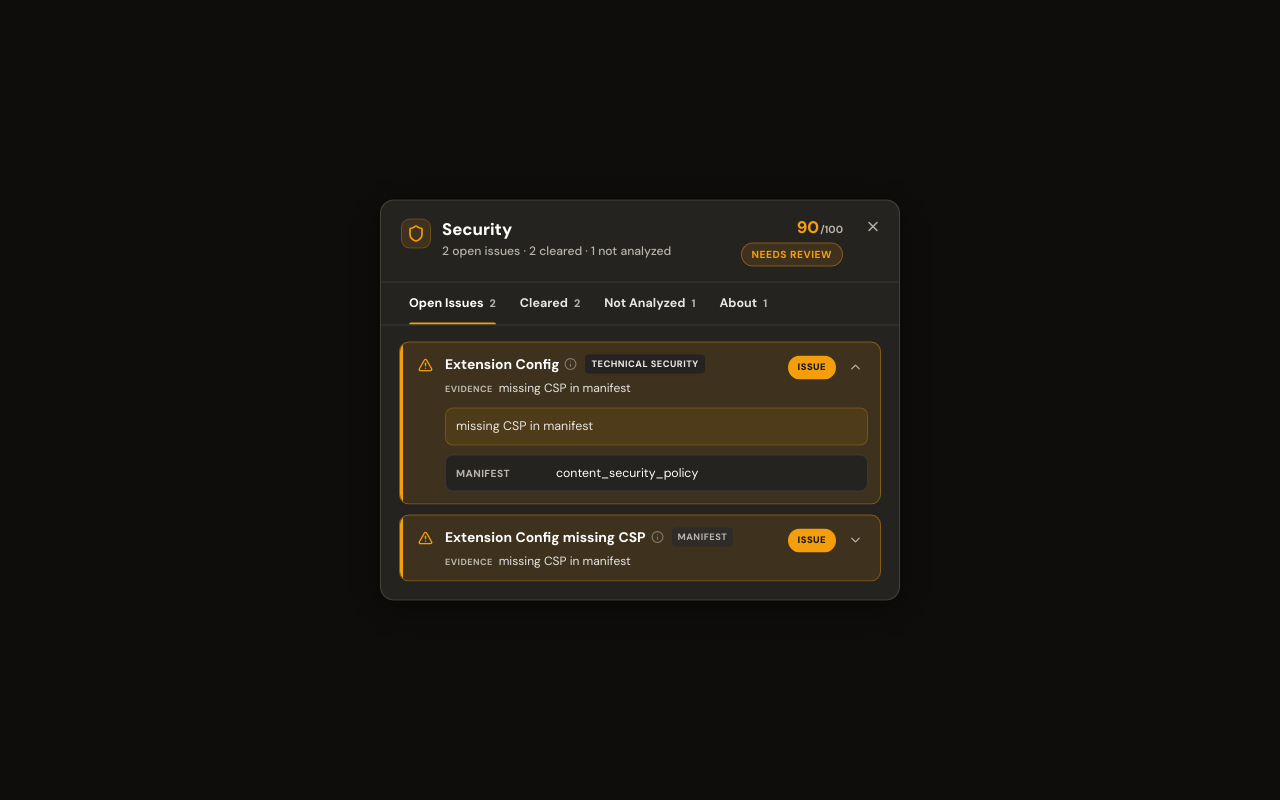
Test: LayerModal rendering › opens a Security modal with open, cleared, and not-analyzed tabs
Expected: the text "Security" is shown, x1=442 y1=218 x2=512 y2=240
Expected: the text "90" is shown, x1=797 y1=216 x2=819 y2=238
Step 1. Click the tab "Cleared 2" → (550, 303), box x1=510 y1=282 x2=590 y2=324
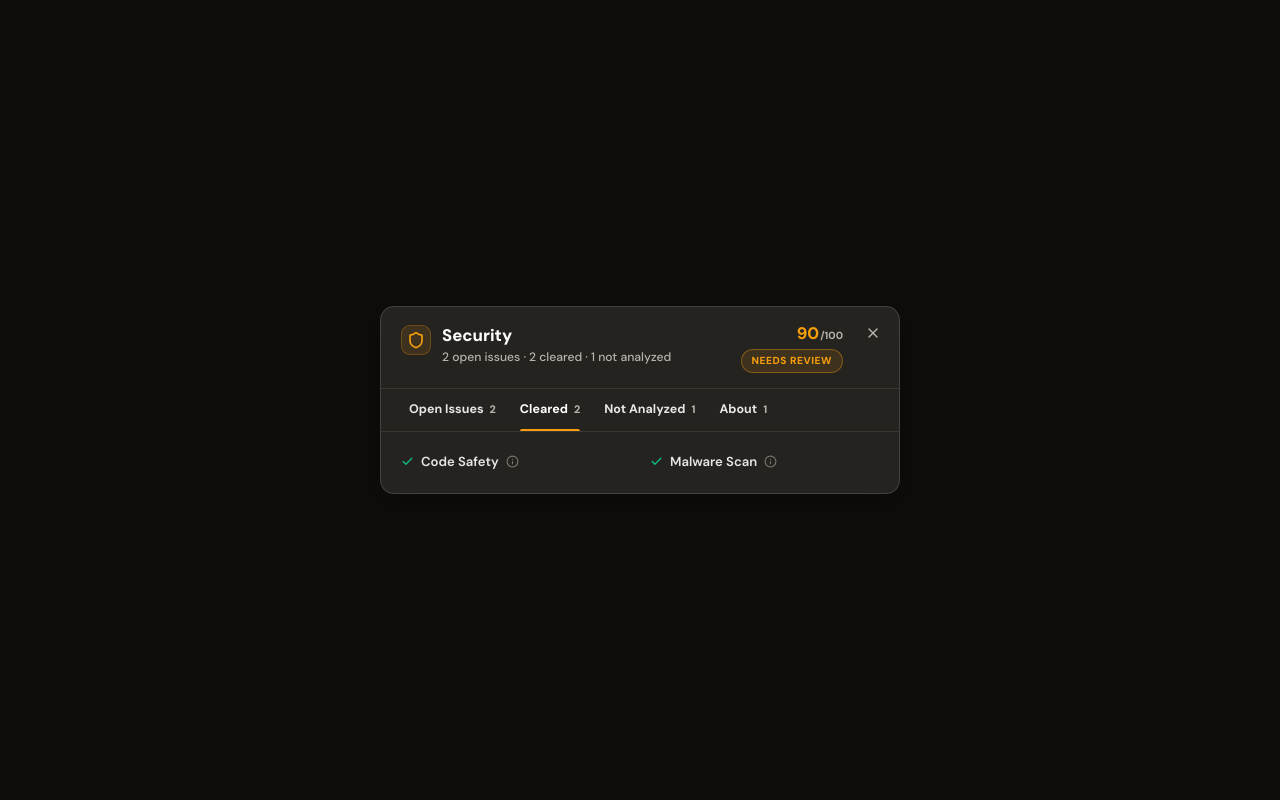
Expected: the text "Code Safety" is shown, x1=421 y1=453 x2=499 y2=470
Expected: the text "Malware Scan" is shown, x1=670 y1=453 x2=757 y2=470
Step 2. Click the tab "Not Analyzed 1" → (650, 410), box x1=594 y1=389 x2=706 y2=431
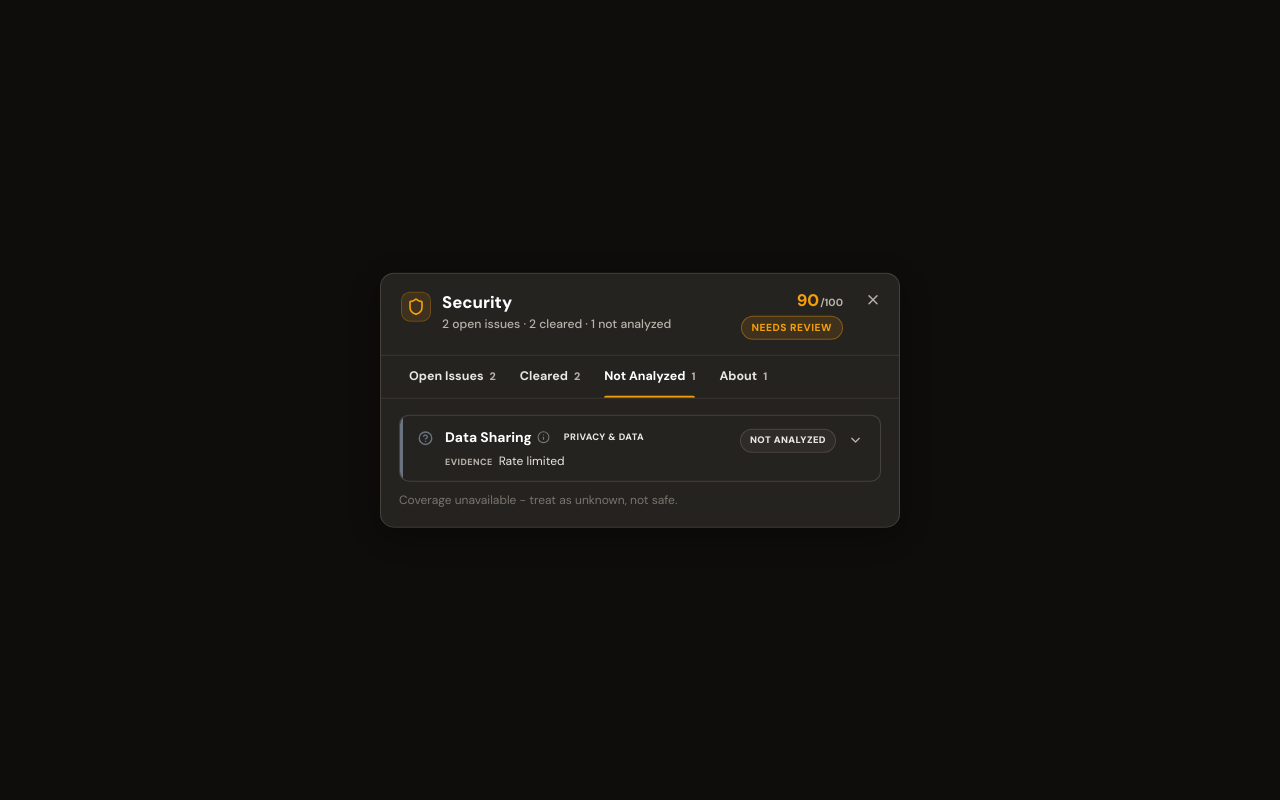
Expected: the text "Data Sharing" is shown, x1=445 y1=428 x2=550 y2=446
